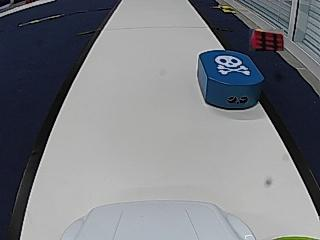danger: (215, 54, 249, 75)
